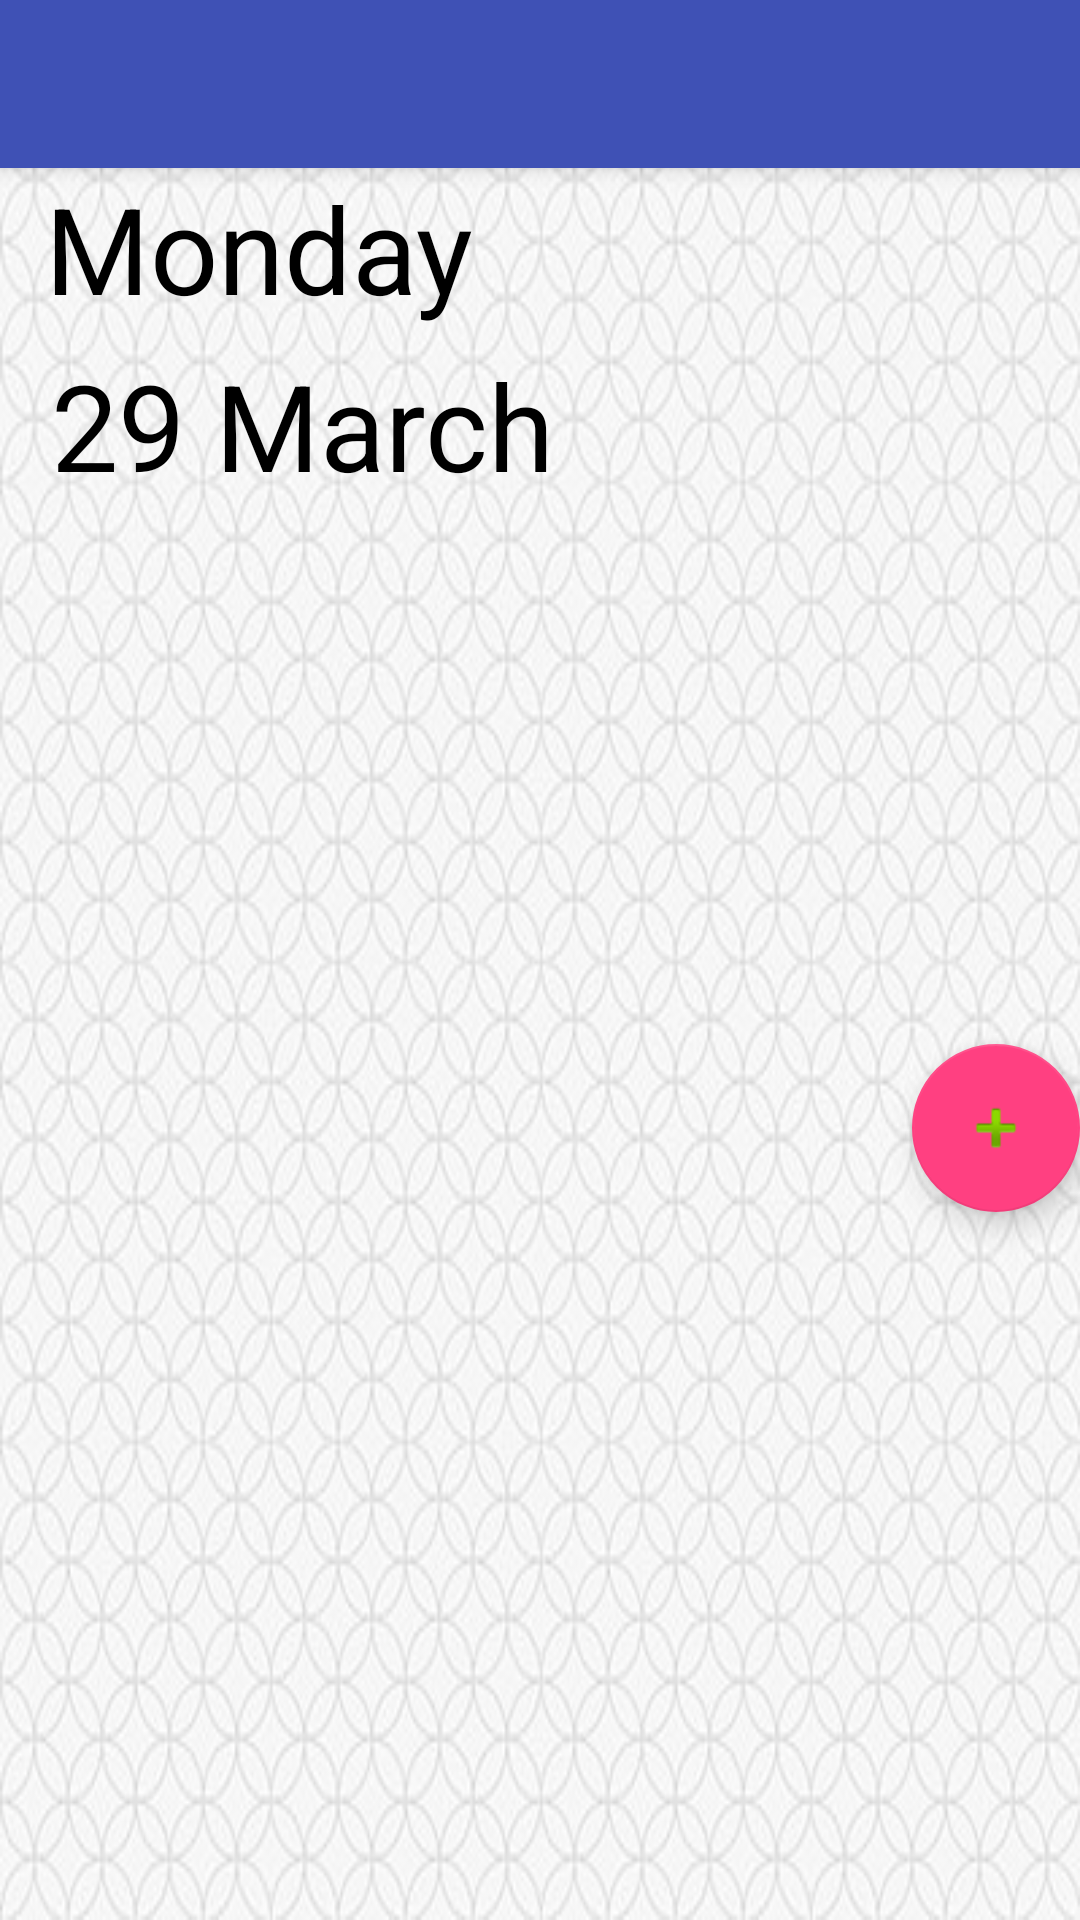

Where icons sit on this 1080x1920 app screen, as (x1, y1, x2, y2):
add: (912, 1044, 1080, 1212)
